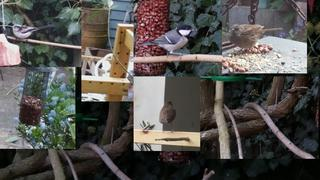dunnock: (229, 24, 283, 55)
great tit: (137, 24, 198, 61)
long tailed tit: (11, 24, 57, 42)
robin: (159, 100, 176, 134)
